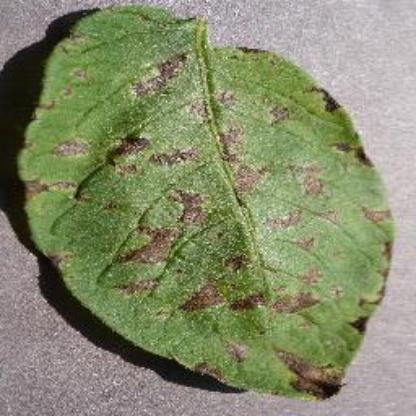Early-Blight: (16, 5, 390, 401)
